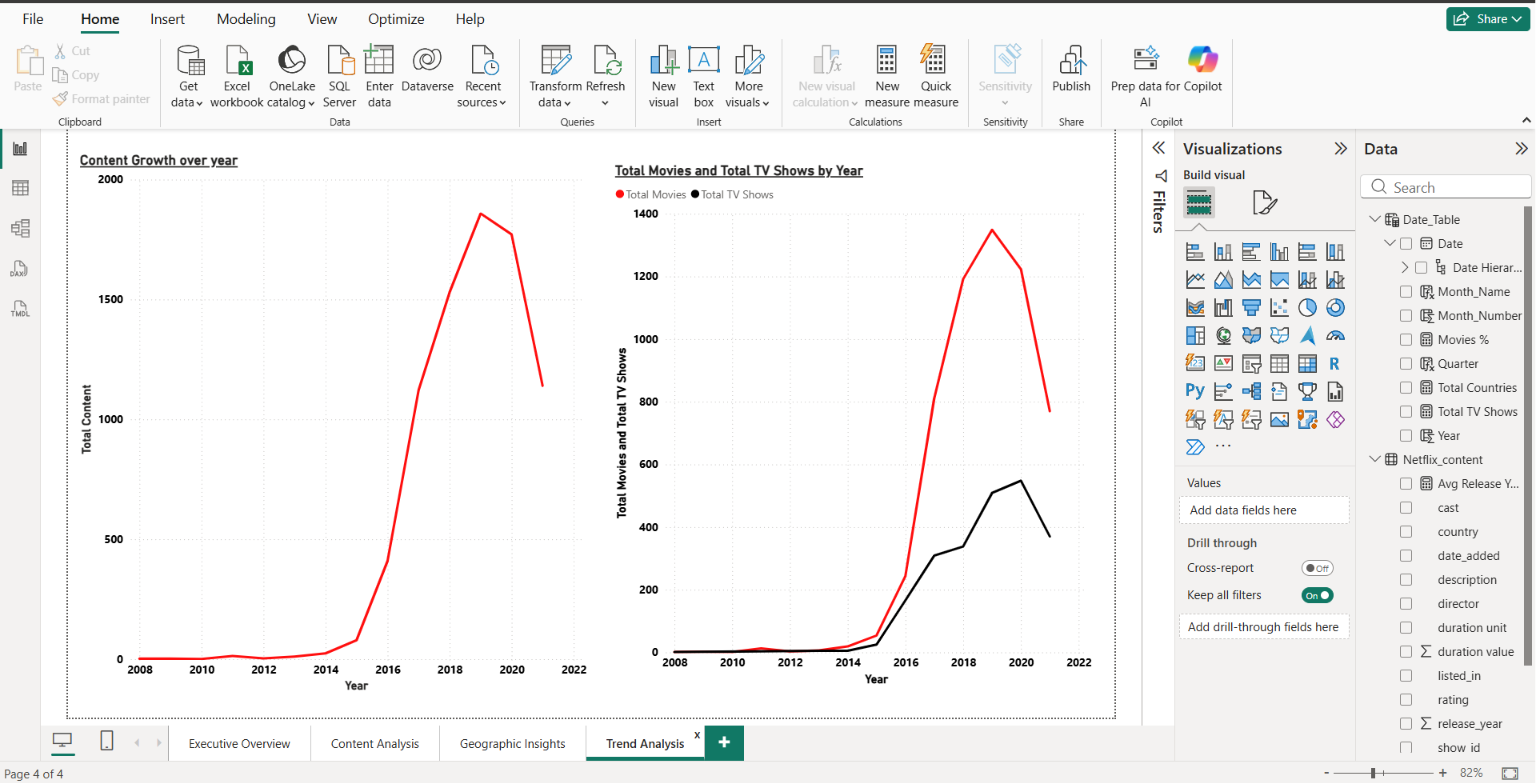

Layout of this report page (visuals, bound fields, positions):
{"tool":"powerbi","page":{"name":"Trend Analysis","canvas":[1280,720],"ordinal":3},"visuals":[{"type":"lineChart","title":"Content Growth over year","fields":{"Category":["Date_Table.Year"],"Y":["Netflix_content.Total Content"]},"box":[9.8,28.1,629.8,666.4],"z":0},{"type":"lineChart","fields":{"Category":["Date_Table.Year"],"Y":["Netflix_content.Total Movies","Date_Table.Total TV Shows"]},"box":[664,40.4,593.1,645.7],"z":1000}]}

Visuals, with their boxes on the page's 1280x720 design canvas (x1, y1, x2, y2). These are canvas units, not pixel positions in the 1536x783 screenshot, which may show the page scaled, cropped or inside an application window:
"Content Growth over year" lineChart: region(10, 28, 640, 694)
lineChart - Date_Table.Year x Netflix_content.Total Movies: region(664, 40, 1257, 686)
